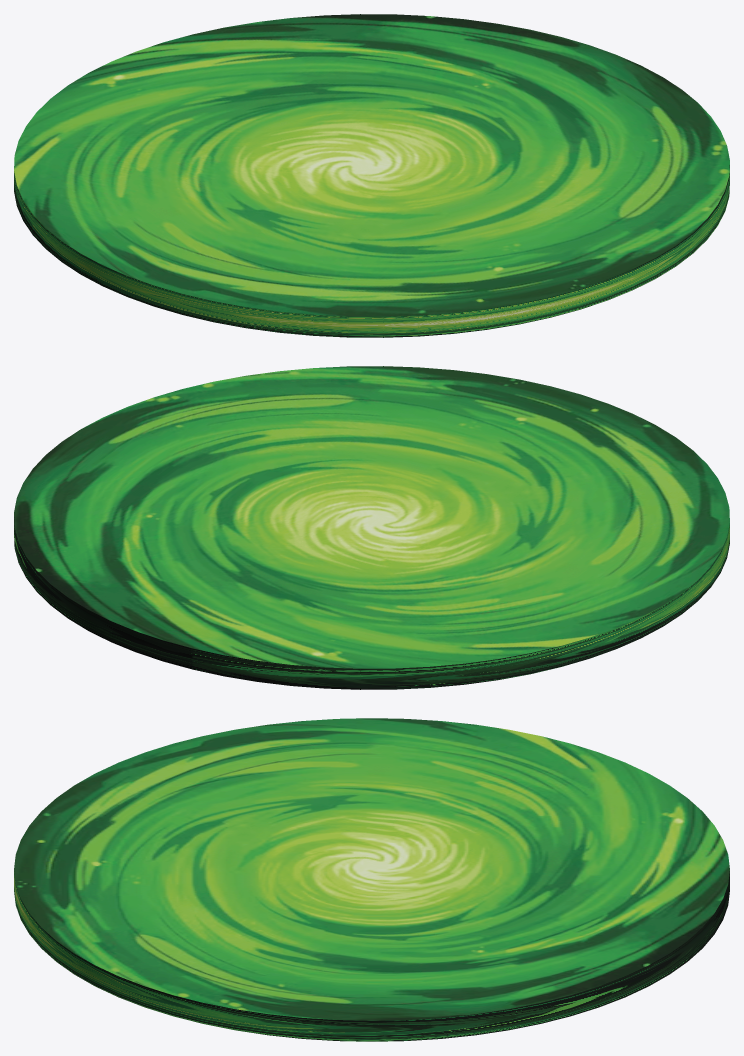
Rendered from protex.glb.
3 views of the same model, one above another, from view 1: azimuth 30°, elevation 25°; view 2: azimuth 150°, elevation 25°; view 3: azimuth 270°, elevation 25° (orthographic).
Visible parts, largest first — view 1: Cylinder040; view 2: Cylinder040; view 3: Cylinder040.
Part boxes in pixels (box(x1,y1,x2,y2)): Cylinder040: box(14, 14, 729, 337); Cylinder040: box(14, 366, 729, 689); Cylinder040: box(14, 718, 729, 1041).
Size of the model in its own units: 1.09 by 0.0355 by 1.09.
1 material, 1 textured.
